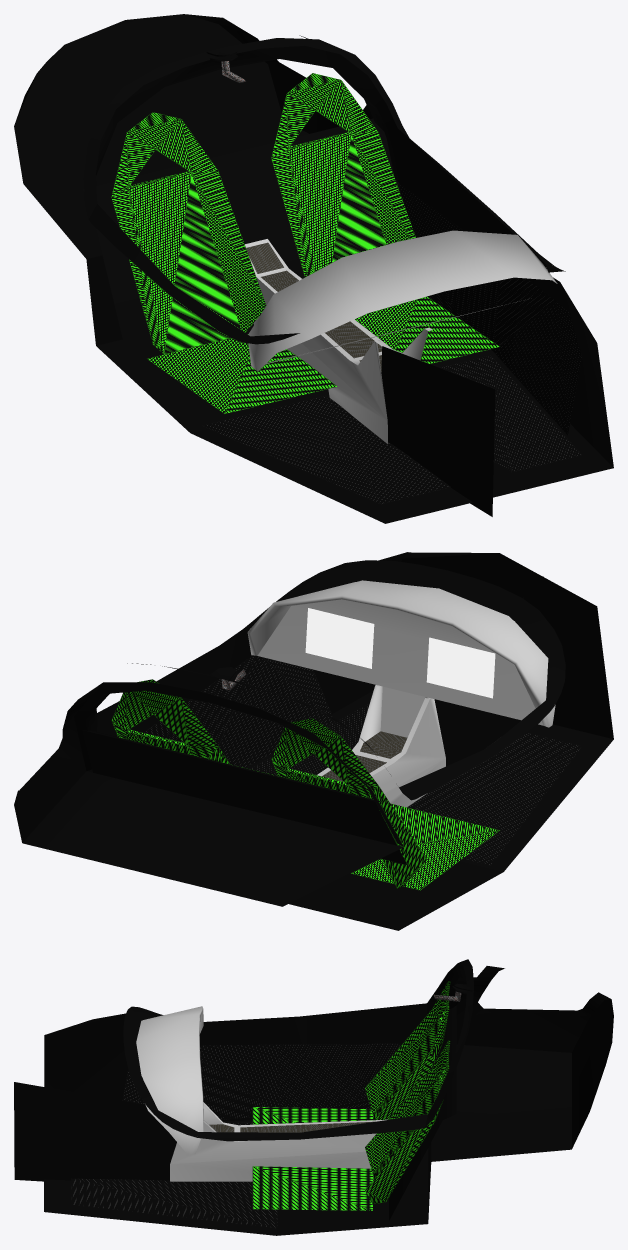
File: VL3_cockpit_lod5.gltf
The picture shows the model from 3 angles, top to bottom: view 1: azimuth 30°, elevation 25°; view 2: azimuth 150°, elevation 25°; view 3: azimuth 270°, elevation 25°; orthographic projection. The views are drawn at different scales.
Visible parts, largest first — view 1: InteriorShell, Seat_right, Seat_left, FloorMats, Window_frame, Main_Panel, InteriorShell_Leather, Pedestal, Pedestal_carbonFiber; view 2: InteriorShell, Main_Panel, Window_frame, FloorMats, Seat_right, InteriorShell_Leather, Pedestal, Seat_left, AS3X_Screen_2, AS3X_Screen_1, Pedestal_carbonFiber; view 3: InteriorShell, Window_frame, InteriorShell_Leather, Seat_left, Pedestal, FloorMats, Main_Panel, Seat_right, Pedestal_carbonFiber.
Boxes of the visible parts, x1,y1,x2,y2 form: InteriorShell: (14,14,613,523); Seat_right: (111,112,337,413); Seat_left: (271,73,499,363); FloorMats: (202,355,581,504); Window_frame: (83,38,565,344); Main_Panel: (248,230,557,371); InteriorShell_Leather: (399,183,581,435); Pedestal: (245,239,432,443); Pedestal_carbonFiber: (246,242,382,371); InteriorShell: (14,552,613,930); Main_Panel: (247,580,555,727); Window_frame: (94,560,565,800); FloorMats: (250,703,582,865); Seat_right: (271,718,499,890); InteriorShell_Leather: (143,655,334,767); Pedestal: (317,685,445,807); Seat_left: (111,679,276,775); AS3X_Screen_2: (426,637,495,698); AS3X_Screen_1: (305,608,374,668); Pedestal_carbonFiber: (322,731,407,781); InteriorShell: (14,966,613,1235); Window_frame: (123,959,473,1141); InteriorShell_Leather: (122,1043,402,1119); Seat_left: (252,1040,450,1210); Pedestal: (170,1102,387,1181); FloorMats: (71,1122,277,1228); Main_Panel: (136,1006,203,1154); Seat_right: (252,981,450,1124); Pedestal_carbonFiber: (209,1121,374,1132).
Size of the model in its own units: 1.11 by 0.8361 by 2.31.
